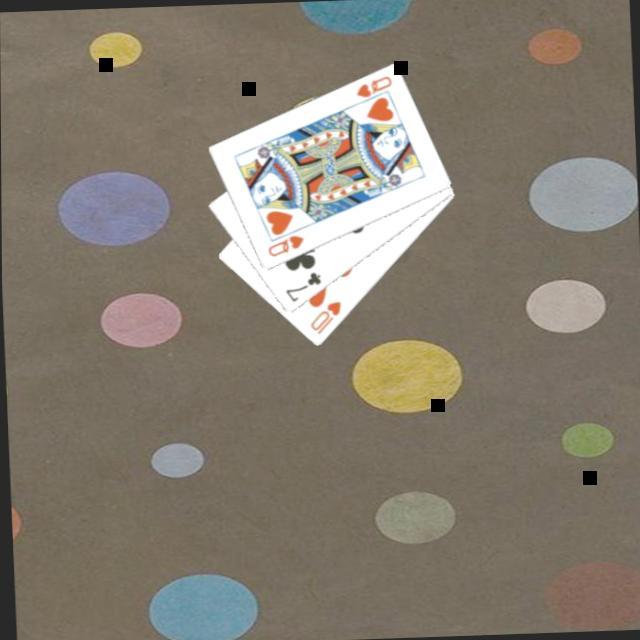10H: (304, 296, 342, 335)
7C: (279, 266, 322, 303)
QH: (348, 71, 392, 107), (262, 230, 304, 258)
